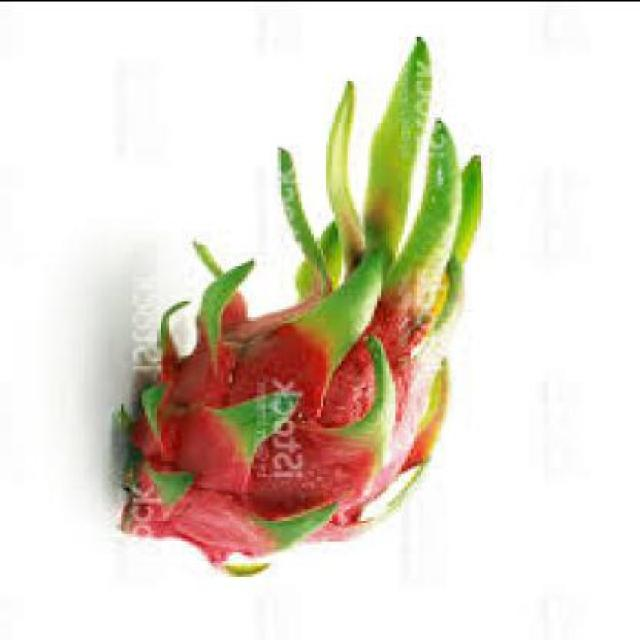BIODEGRADABLE: (114, 38, 489, 580)
